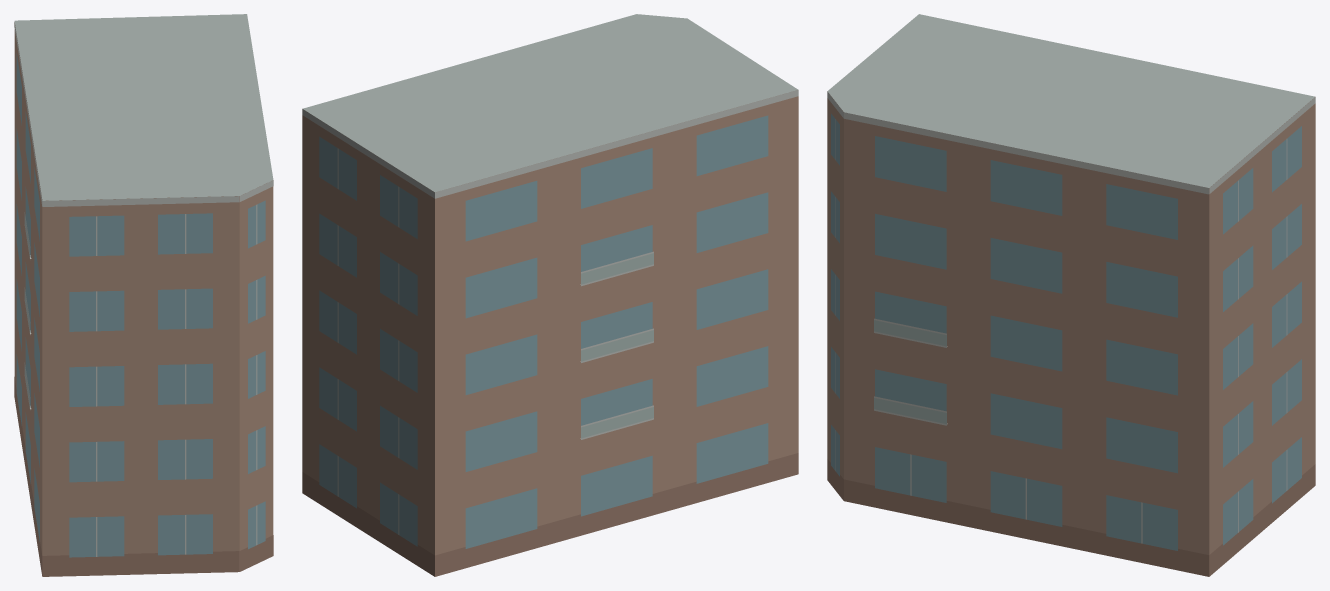
The model's file is survey-upis-32886224.glb.
3 views of the same model, side by side, from view 1: azimuth 30°, elevation 25°; view 2: azimuth 150°, elevation 25°; view 3: azimuth 270°, elevation 25° (orthographic). The views are drawn at different scales.
Visible parts, largest first — view 1: survey-upis-32886224.tmp; view 2: survey-upis-32886224.tmp; view 3: survey-upis-32886224.tmp.
Boxes of the visible parts, x1=… form: survey-upis-32886224.tmp: x1=14, y1=14, x2=273, y2=576; survey-upis-32886224.tmp: x1=302, y1=14, x2=798, y2=576; survey-upis-32886224.tmp: x1=827, y1=14, x2=1315, y2=576.
Bounding box in the file's own units: 14.12 × 14.7 × 16.74.
